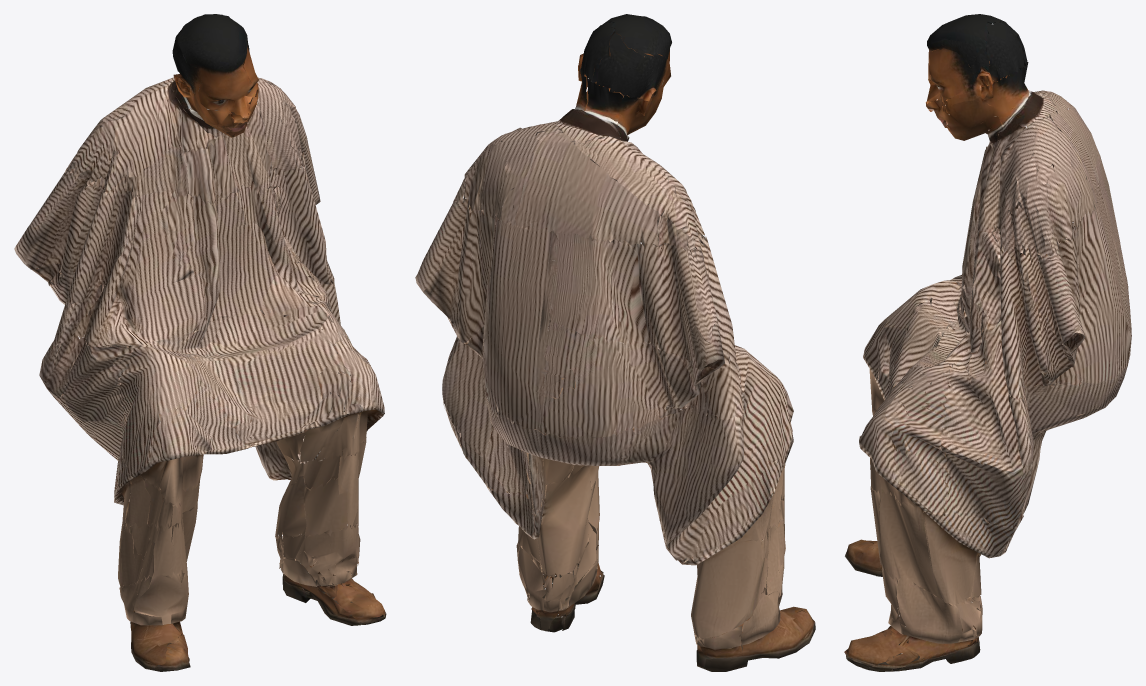
Rendered from barber_client.glb.
The picture shows the model from 3 angles, left to right: view 1: azimuth 30°, elevation 25°; view 2: azimuth 150°, elevation 25°; view 3: azimuth 270°, elevation 25°; orthographic projection. The views are drawn at different scales.
Visible parts, largest first — view 1: barber_client; view 2: barber_client; view 3: barber_client.
Part boxes in pixels (bbox=[...]): barber_client: bbox=[14, 14, 386, 671]; barber_client: bbox=[415, 14, 815, 671]; barber_client: bbox=[844, 14, 1131, 671].
Bounding box in the file's own units: 0.6887 × 1.32 × 0.5762.
1 material, 1 textured.
